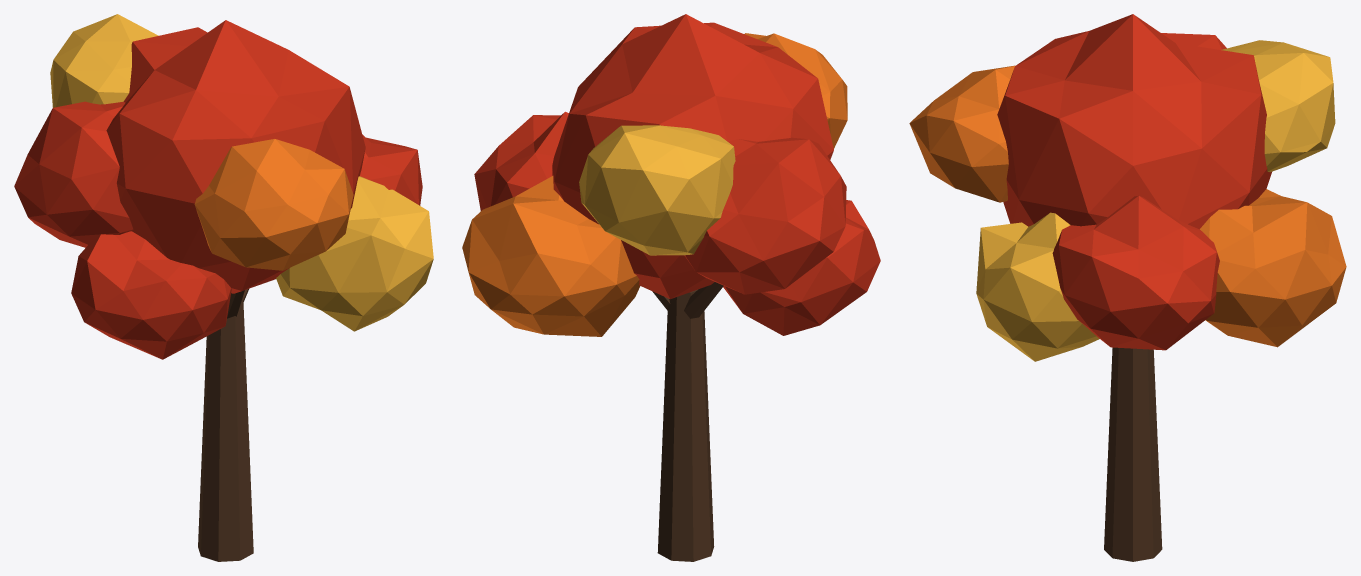
Rendered from maple.glb.
3 views of the same model, side by side, from view 1: azimuth 30°, elevation 25°; view 2: azimuth 150°, elevation 25°; view 3: azimuth 270°, elevation 25° (orthographic).
Visible parts, largest first — view 1: MapleMesh; view 2: MapleMesh; view 3: MapleMesh.
Part boxes in pixels (x1,y1,x2,y2): MapleMesh: (14, 14, 433, 561); MapleMesh: (462, 14, 880, 561); MapleMesh: (909, 14, 1346, 561).
Bounding box in the file's own units: 3.79 × 5.27 × 3.9.
